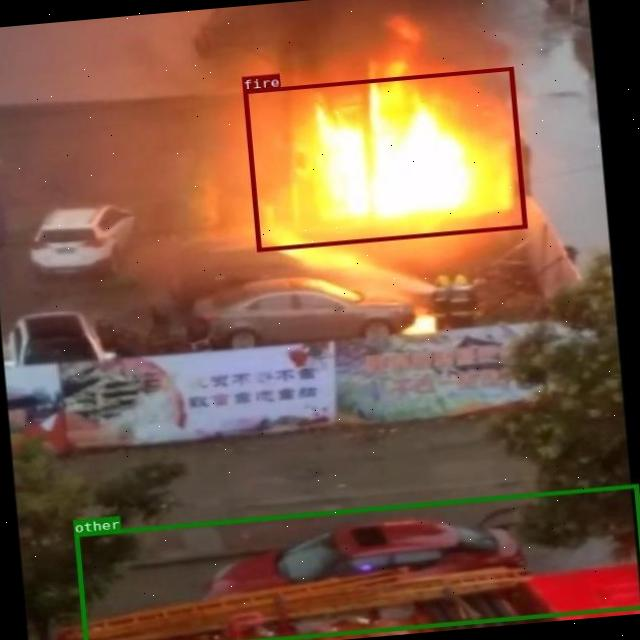fire: (242, 66, 526, 250)
